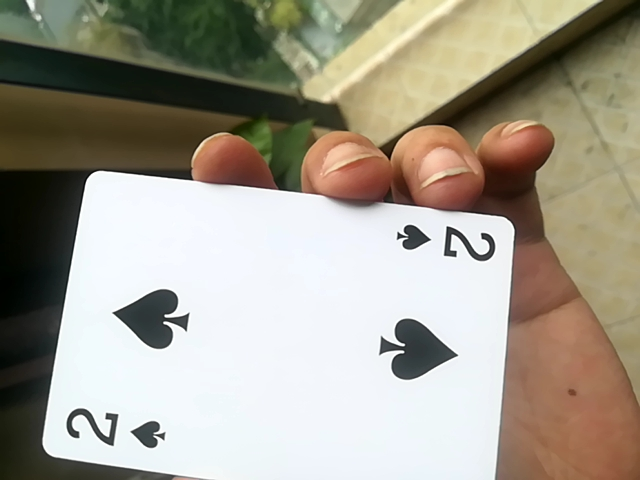ht 2: (34, 166, 516, 480)
